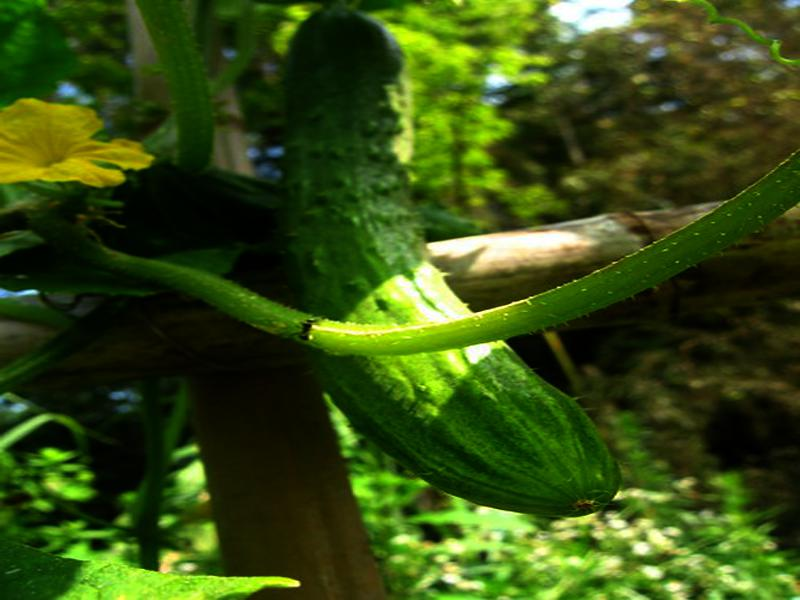Cucumber: (281, 4, 616, 517)
